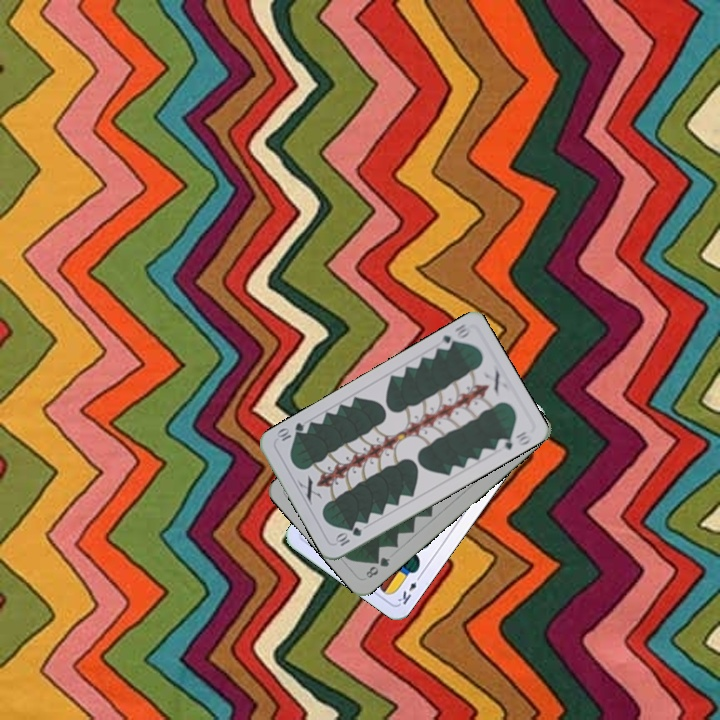EK: (393, 570, 424, 608)
G10: (434, 320, 473, 353), (331, 523, 364, 549)
G8: (361, 553, 393, 581)
